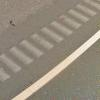Crosswalk: (5, 21, 95, 68)
